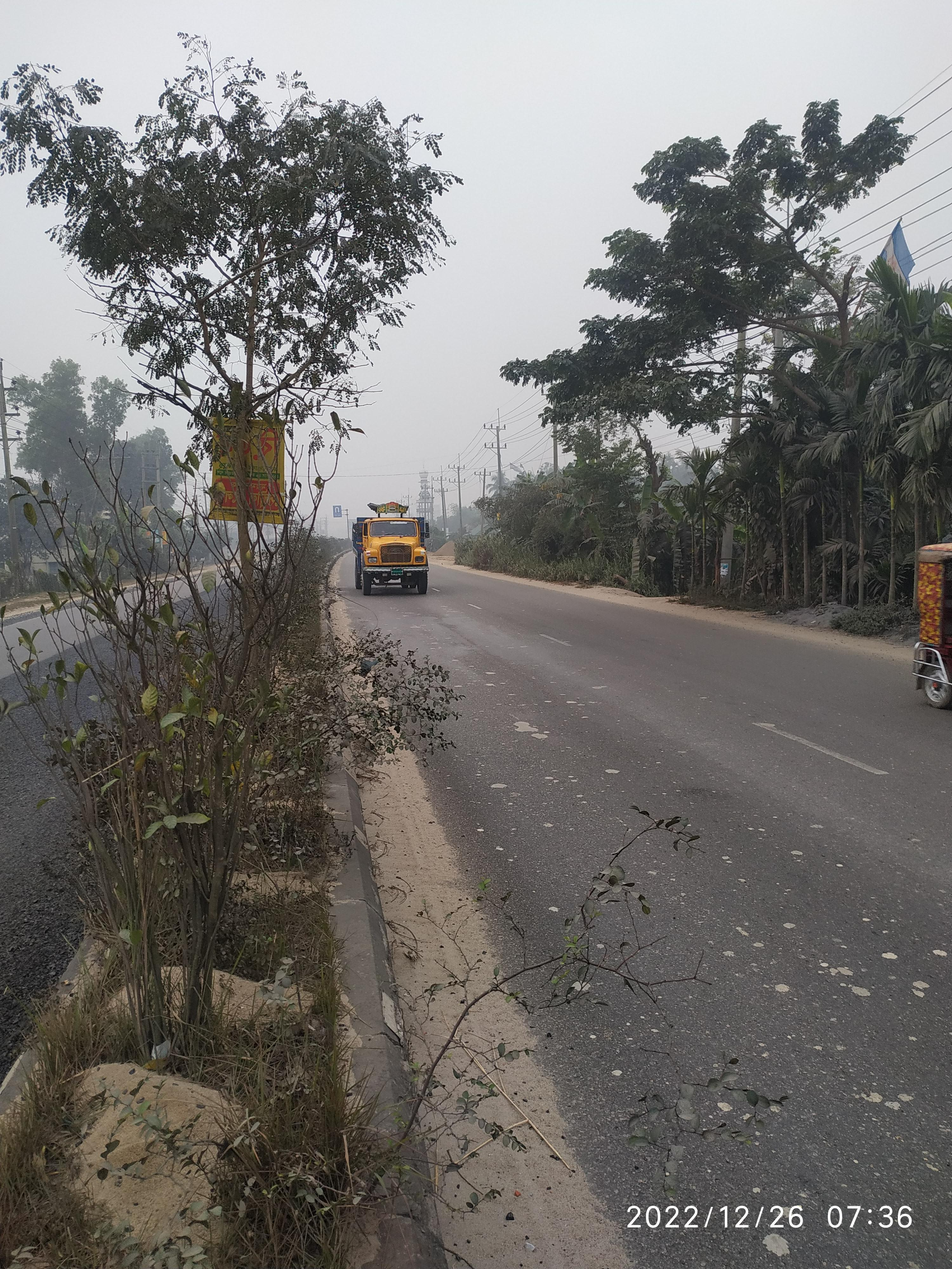Truck: (317, 490, 456, 622)
